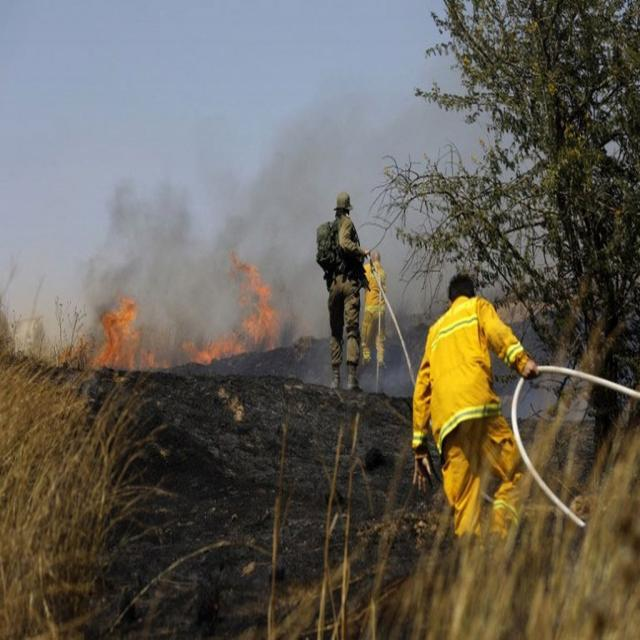Fire: (189, 262, 284, 370), (72, 303, 166, 371)
